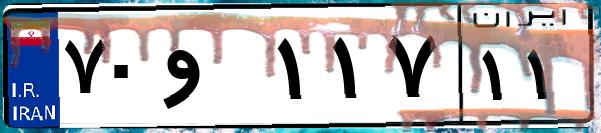0: (110, 28, 158, 98)
1: (270, 28, 330, 110), (330, 28, 385, 110), (475, 38, 525, 113), (525, 38, 570, 115)
7: (385, 28, 445, 110), (57, 26, 110, 100)
و: (158, 20, 270, 120)
